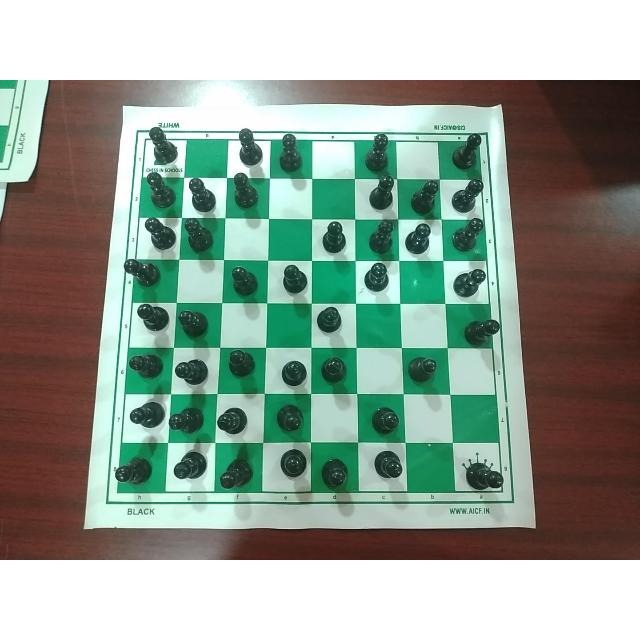black-pawn: (459, 310, 506, 347), (449, 260, 489, 303), (227, 129, 267, 171), (270, 445, 310, 487), (367, 398, 405, 441), (358, 130, 396, 172), (445, 131, 487, 169), (142, 169, 180, 211), (466, 459, 508, 497), (122, 253, 166, 289), (126, 346, 165, 385), (142, 123, 180, 163), (224, 171, 262, 211), (185, 169, 218, 215), (215, 402, 255, 439), (142, 213, 178, 253), (167, 401, 207, 437), (181, 216, 216, 256), (110, 455, 152, 488), (175, 303, 211, 341), (275, 130, 306, 174), (130, 300, 170, 334), (274, 261, 311, 297), (174, 350, 210, 387), (127, 398, 163, 435), (272, 398, 308, 435), (365, 216, 399, 255), (450, 177, 484, 215), (319, 218, 352, 256), (226, 263, 262, 297), (224, 344, 258, 380), (371, 448, 405, 484), (362, 174, 395, 211), (404, 351, 440, 384), (404, 218, 436, 255), (314, 304, 350, 336), (275, 356, 311, 388), (220, 456, 252, 492), (319, 454, 351, 490), (172, 452, 206, 485), (453, 215, 485, 250), (362, 257, 394, 292), (410, 178, 441, 214), (317, 355, 349, 385)
